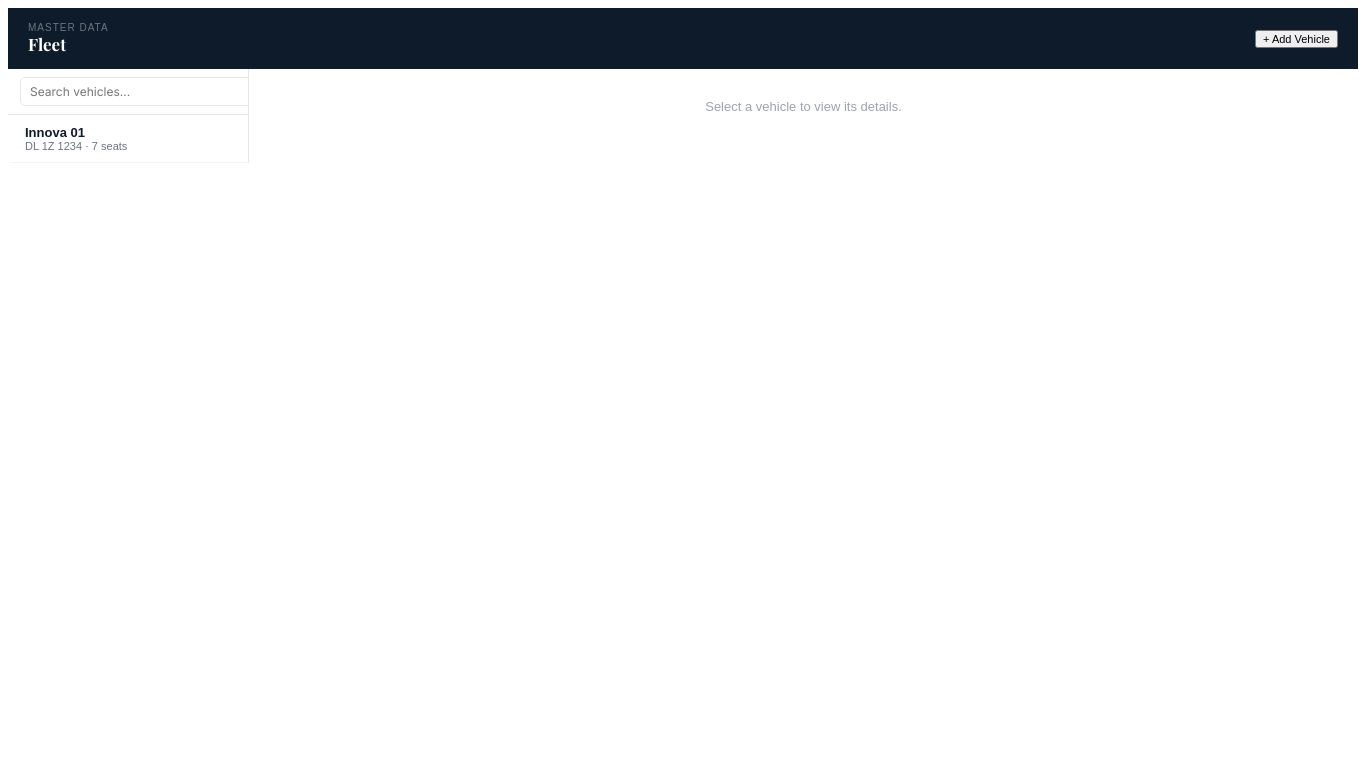
Test: FleetMaster › requires a vehicle name
The image size is (1366, 768).
Expected: the text "Innova 01" is shown, [25,125,85,140]
Click the button "+ Add Vehicle" at (1296, 38), box [1255,30,1338,48]
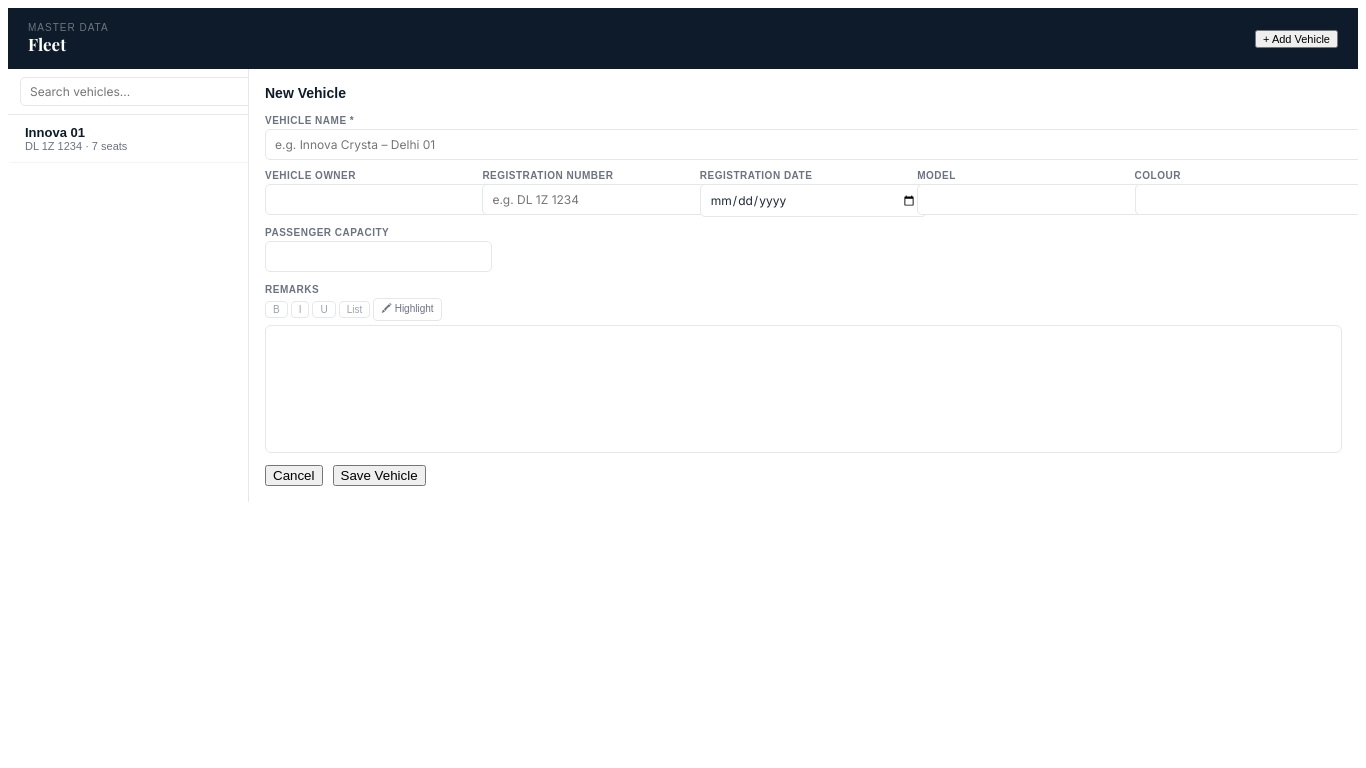
Click the button "Save Vehicle" at (379, 476), box [332,465,426,486]
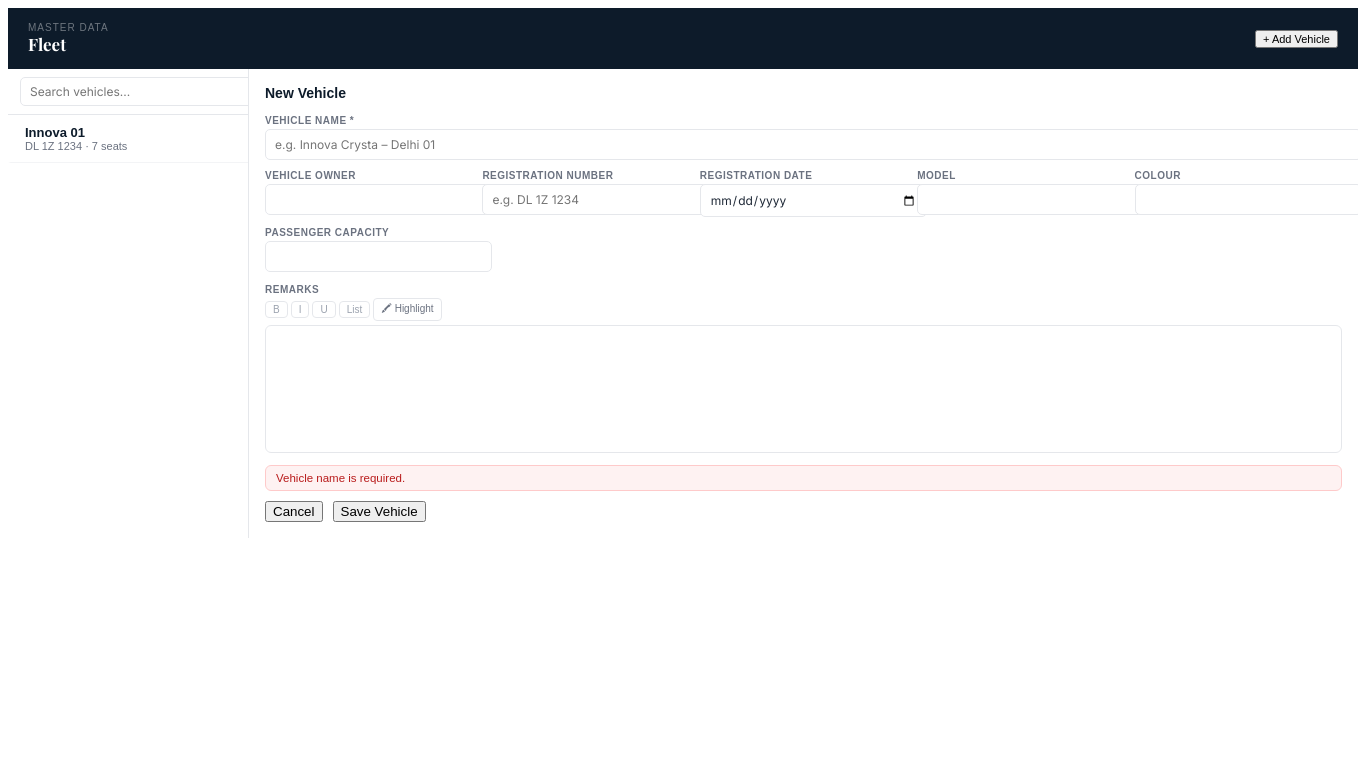
Result: the message shows "name is required" at [276,472,405,484]
